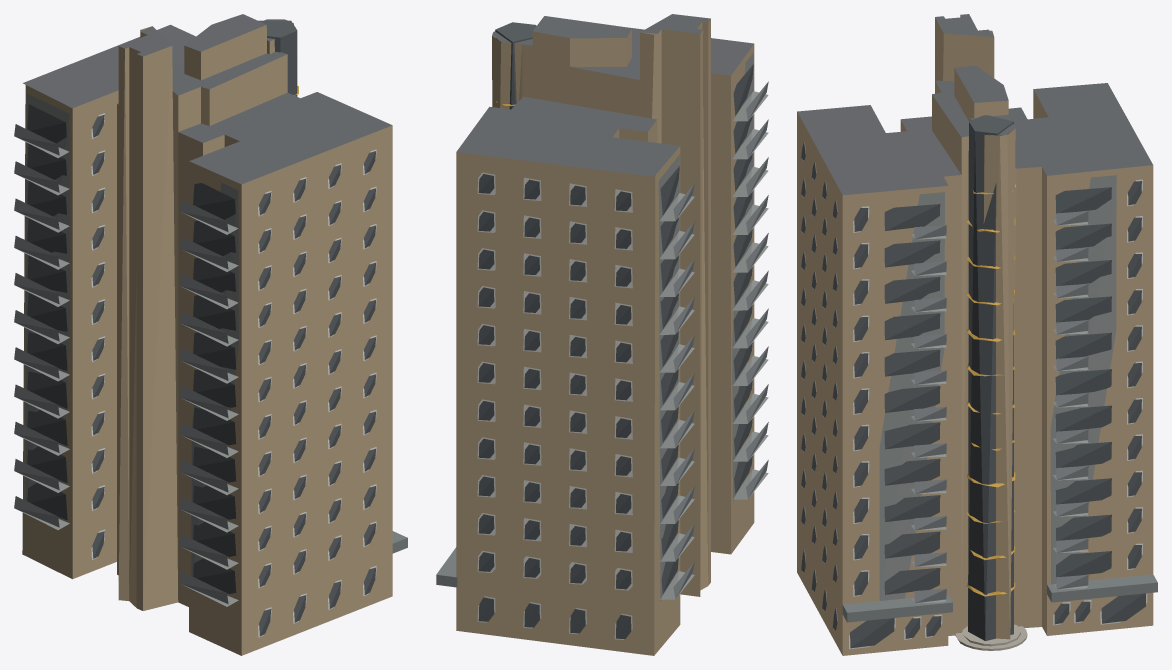
The model's file is wolkenkrabber.lod1.glb.
The picture shows the model from 3 angles, left to right: view 1: azimuth 30°, elevation 25°; view 2: azimuth 150°, elevation 25°; view 3: azimuth 270°, elevation 25°; orthographic projection. The views are drawn at different scales.
Parts seen in each view (by area): view 1: wolkenkrabber; view 2: wolkenkrabber; view 3: wolkenkrabber.
Boxes of the visible parts, x1,y1,x2,y2 form: wolkenkrabber: (14, 14, 407, 655); wolkenkrabber: (436, 14, 768, 655); wolkenkrabber: (797, 14, 1157, 655).
Bounding box in the file's own units: 23.88 × 47.4 × 28.57.
